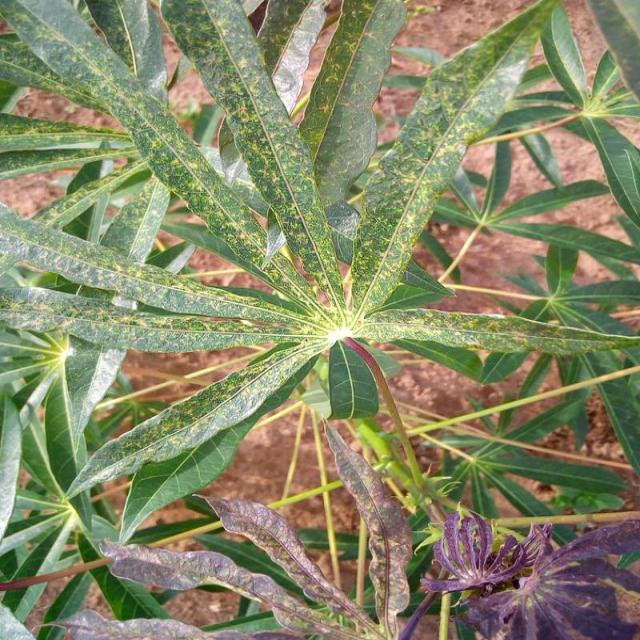cassava leaf: (0, 0, 638, 635)
